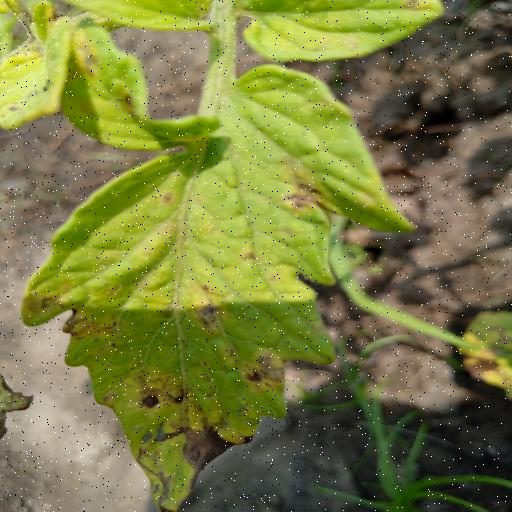Tomato_Brown_Spots: (50, 49, 413, 512)
